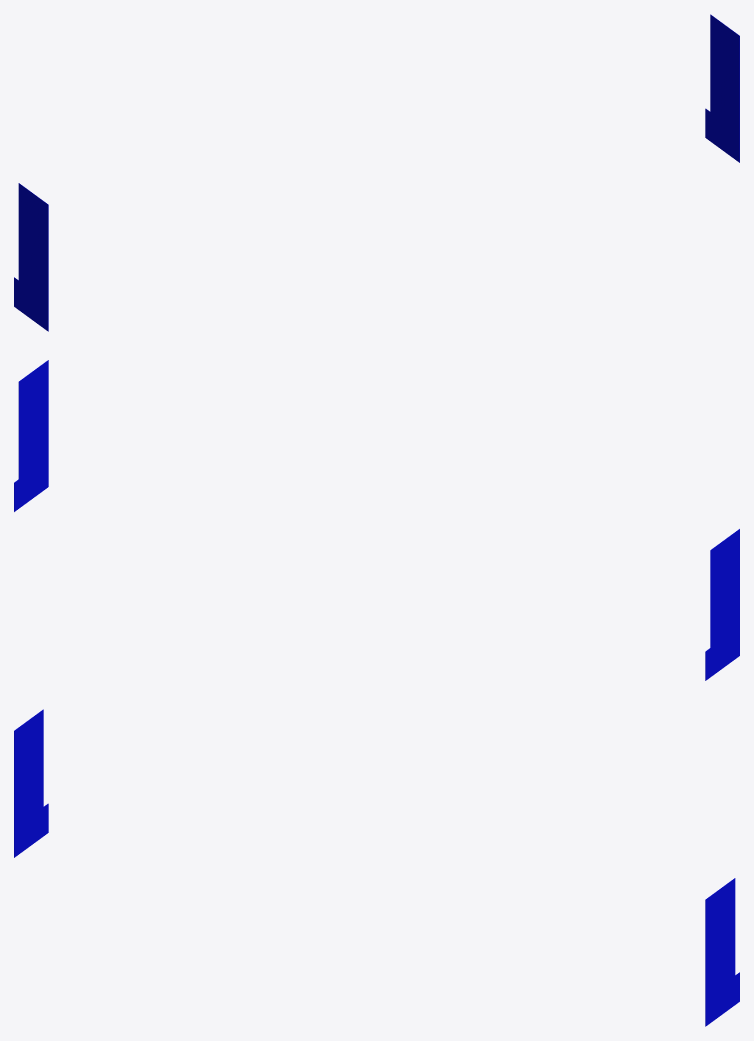
File: Al_Nasar_Football_Stadium_Front_001.FBX
3 renders of one model, top to bottom at view 1: azimuth 30°, elevation 25°; view 2: azimuth 150°, elevation 25°; view 3: azimuth 330°, elevation 25°, orthographic.
Parts seen in each view (by area): view 1: Al_Nasar_Football_Stadium_Front_001; view 2: Al_Nasar_Football_Stadium_Front_001; view 3: Al_Nasar_Football_Stadium_Front_001.
Part boxes in pixels (x1=…): Al_Nasar_Football_Stadium_Front_001: x1=14, y1=14, x2=739, y2=331; Al_Nasar_Football_Stadium_Front_001: x1=14, y1=360, x2=739, y2=680; Al_Nasar_Football_Stadium_Front_001: x1=14, y1=709, x2=739, y2=1026.
Bounding box in the file's own units: 14196 × 1218 × 2491.
